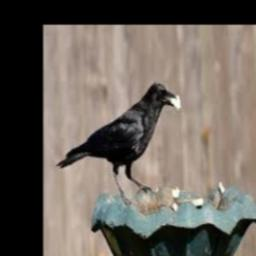Crow: (56, 81, 180, 204)
